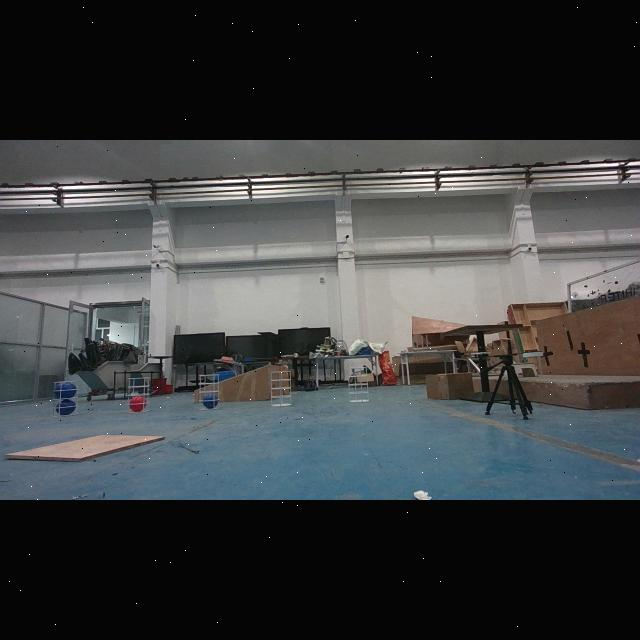B: (54, 382, 76, 400), (54, 400, 76, 416), (200, 394, 220, 408)
R: (128, 397, 146, 411)
S: (48, 378, 80, 418), (125, 374, 153, 414), (266, 369, 294, 408), (195, 373, 222, 411), (346, 366, 370, 406)
